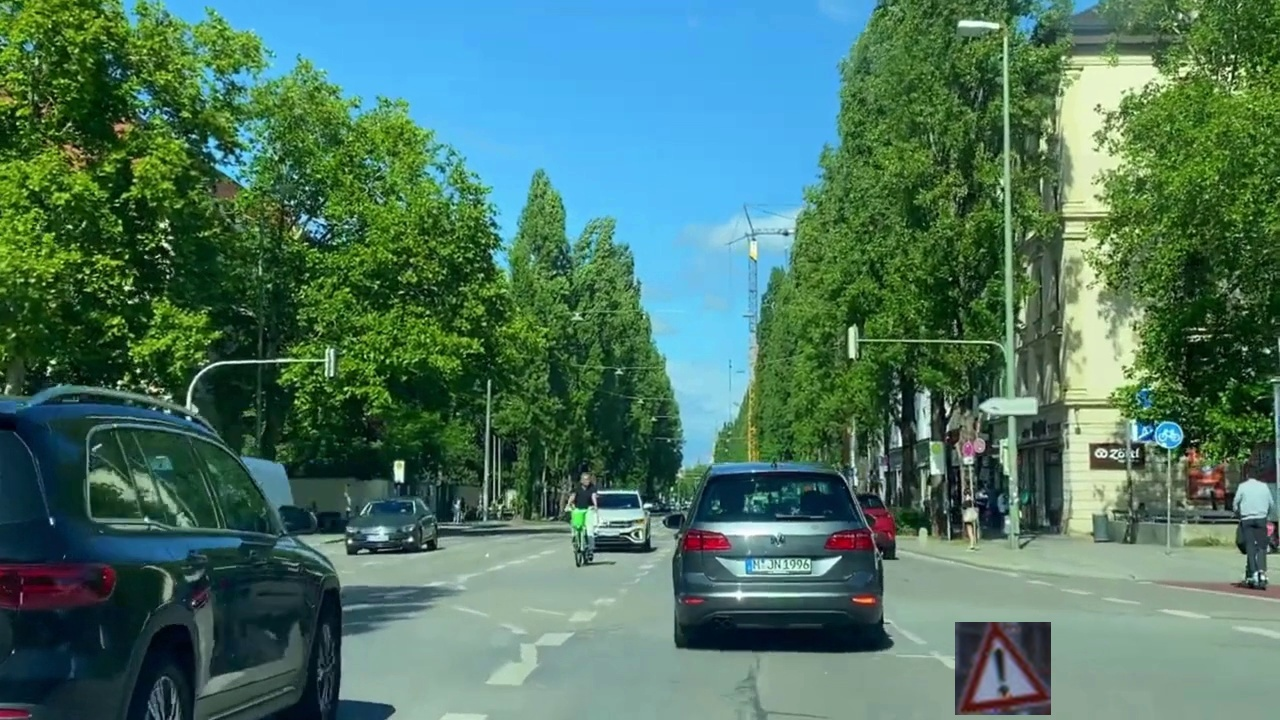Caution: (955, 622, 1051, 715)
